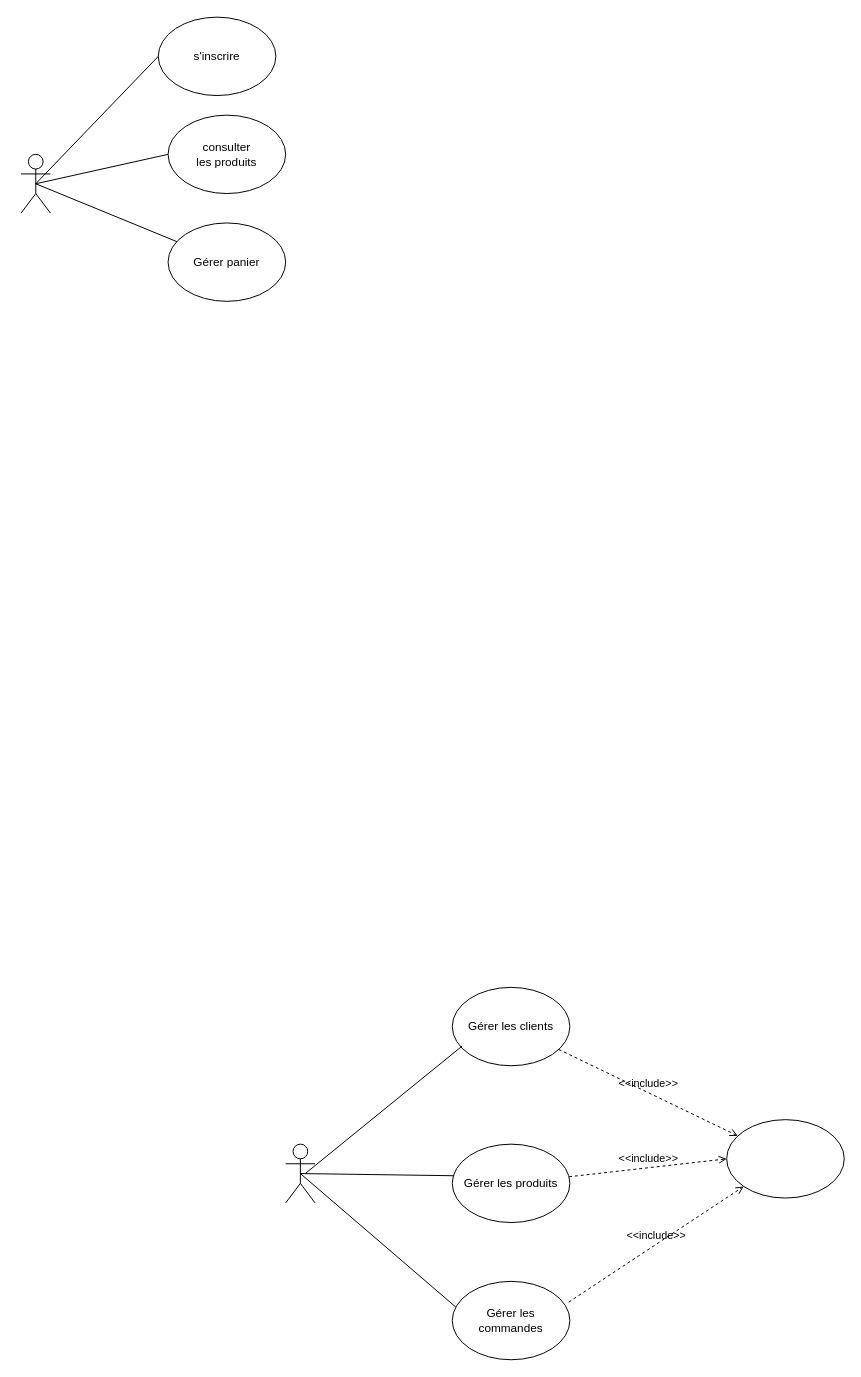
The diagram is 861 pixels wide and 1377 high, and some of its shapes have lost their labels. The shapes that lost their labels are listed below. From the top down, each one's centre as x and y in pixels, then its label:
At [35,183]: "visiteur".
At [300,1173]: "administrateur".
At [785,1158]: "s'authentifier admin".
